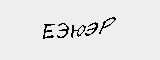Е: (41, 20, 57, 40)
Р: (95, 15, 117, 35)
Э: (83, 21, 98, 39), (58, 22, 69, 41)
Ю: (69, 22, 85, 40)
